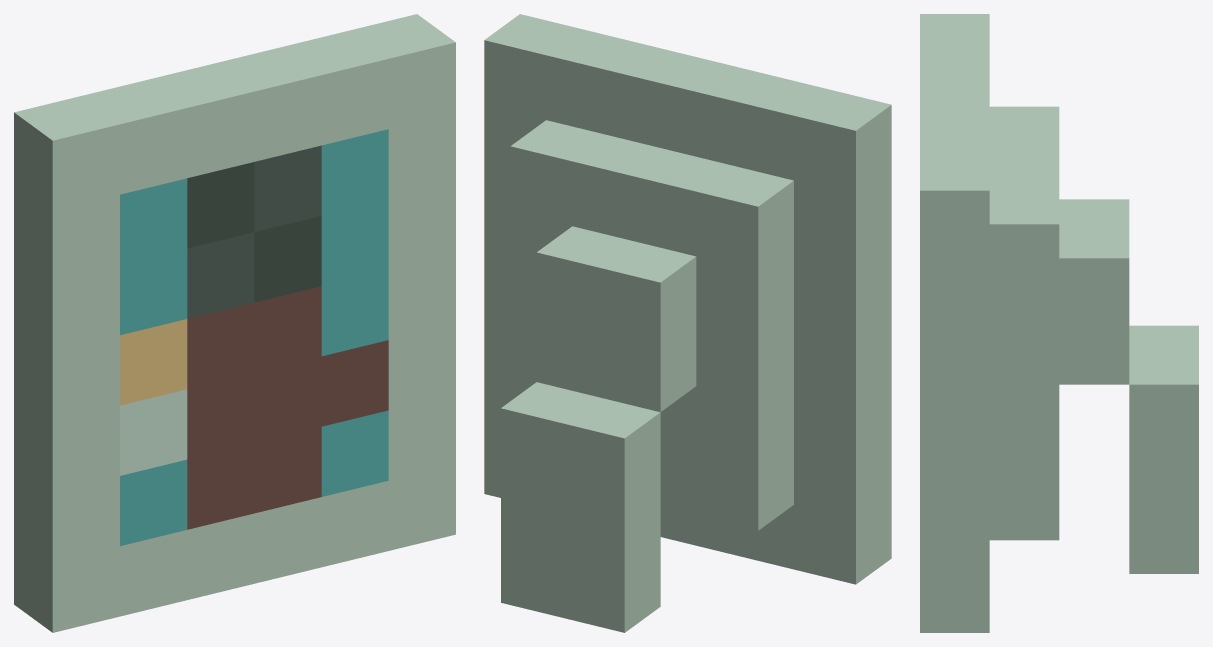
Rendered from House Interior Rooms - Free Sample-13.obj.
3 renders of one model, left to right at view 1: azimuth 30°, elevation 25°; view 2: azimuth 150°, elevation 25°; view 3: azimuth 270°, elevation 25°, orthographic. The views are drawn at different scales.
Size of the model in its own units: 0.12 by 0.14 by 0.08.
Materials: 1 (1 with a texture image).
